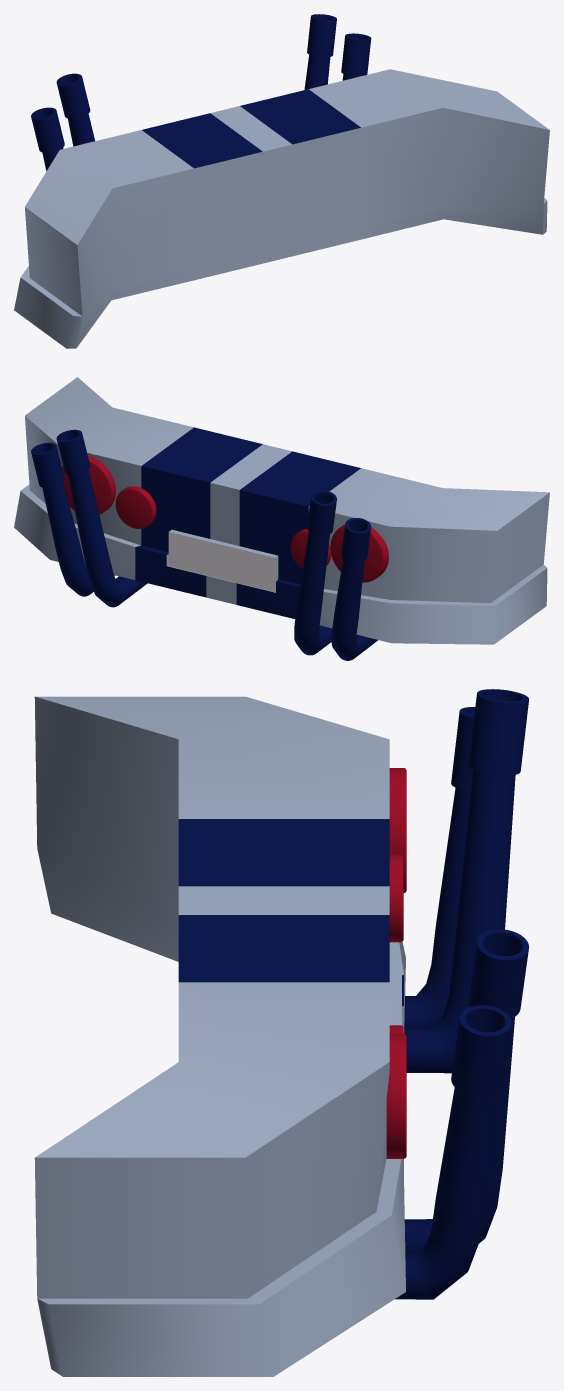
The model's file is bumper3.fbx.
3 renders of one model, top to bottom at view 1: azimuth 30°, elevation 25°; view 2: azimuth 150°, elevation 25°; view 3: azimuth 270°, elevation 25°, orthographic. The views are drawn at different scales.
Parts seen in each view (by area): view 1: Bumper3.001; view 2: Bumper3.001; view 3: Bumper3.001.
Part boxes in pixels (bbox=[...]): Bumper3.001: bbox=[14, 14, 549, 348]; Bumper3.001: bbox=[14, 377, 549, 660]; Bumper3.001: bbox=[34, 689, 528, 1376].
Size of the model in its own units: 2.47 by 0.8678 by 1.1.
